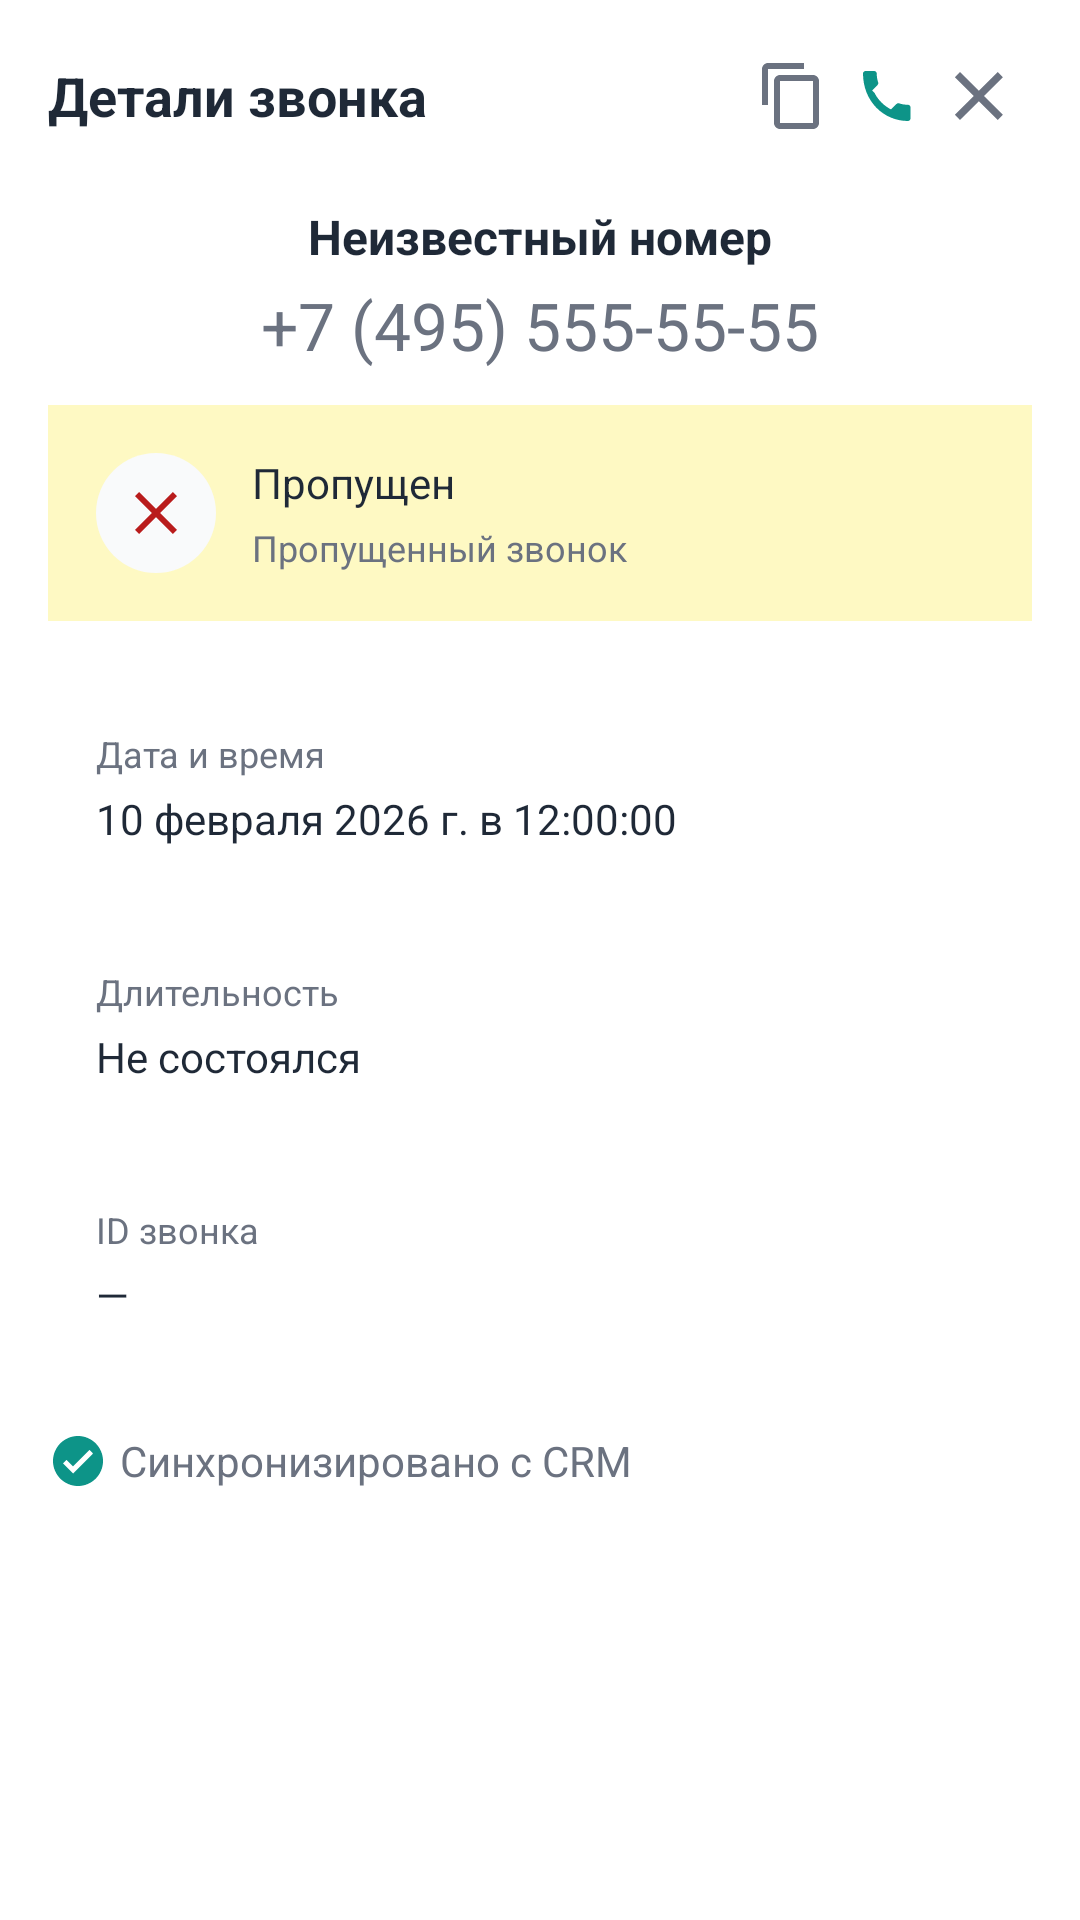

Where to tap for icons on this 1080x1920 app screen, as [x,y]:
Закрыть: [979,96]
Перезвонить: [887,96]
Скопировать: [790,96]
Статус звонка: [156,513]
Статус синхронизации с CRM: [78,1461]
